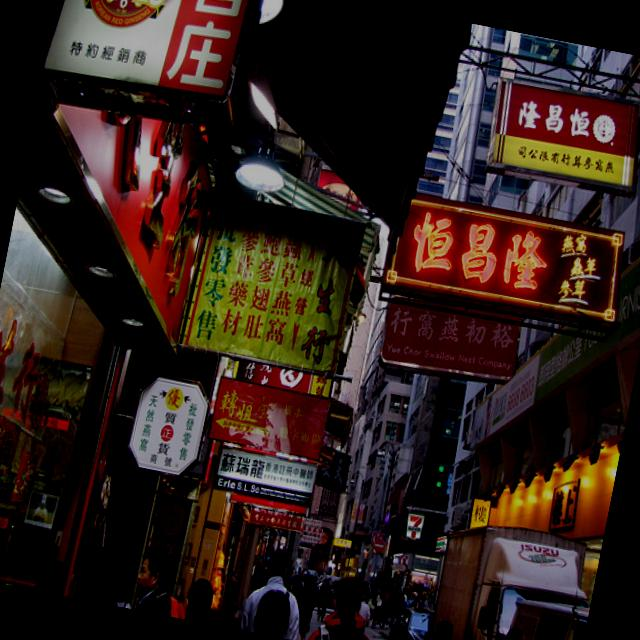Vehicle: (420, 515, 602, 640), (380, 597, 441, 640)
